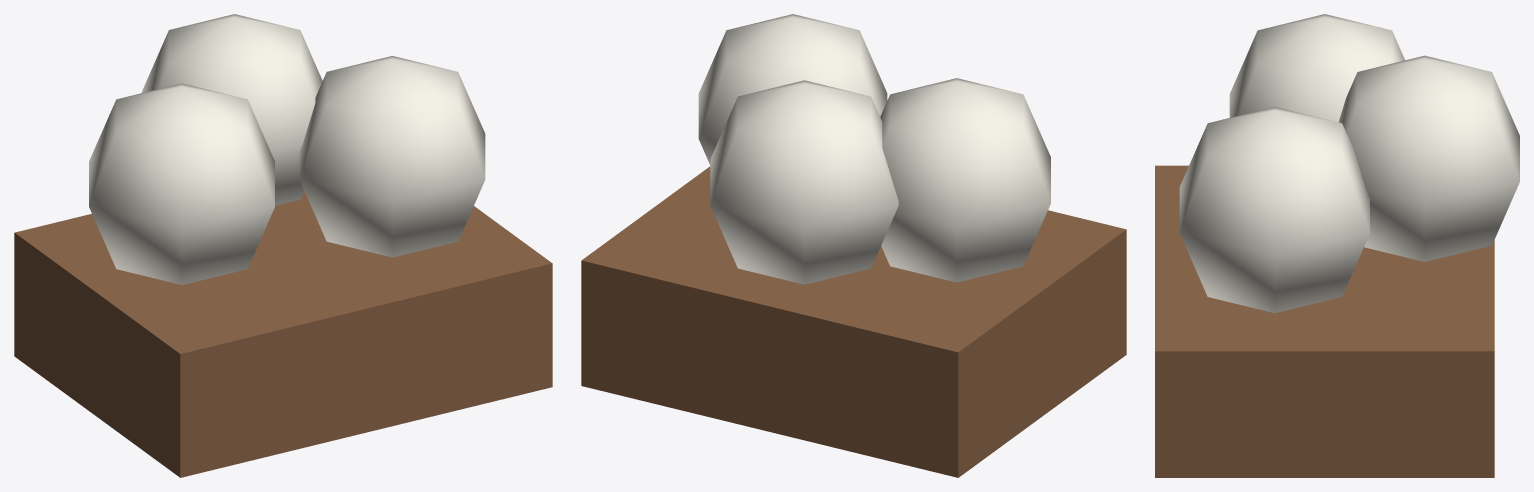
The model's file is item_egg.glb.
3 renders of one model, left to right at view 1: azimuth 30°, elevation 25°; view 2: azimuth 150°, elevation 25°; view 3: azimuth 270°, elevation 25°, orthographic. The views are drawn at different scales.
Parts seen in each view (by area): view 1: item_egg; view 2: item_egg; view 3: item_egg.
Boxes of the visible parts, x1,y1,x2,y2 form: item_egg: (14, 14, 552, 477); item_egg: (581, 14, 1126, 477); item_egg: (1155, 14, 1519, 477).
Size of the model in its own units: 0.45 by 0.36 by 0.3653.
